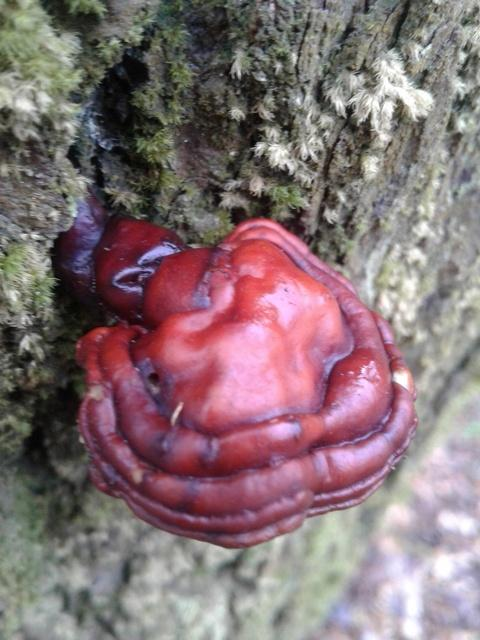poisonous_mushroom: (71, 214, 419, 550)
